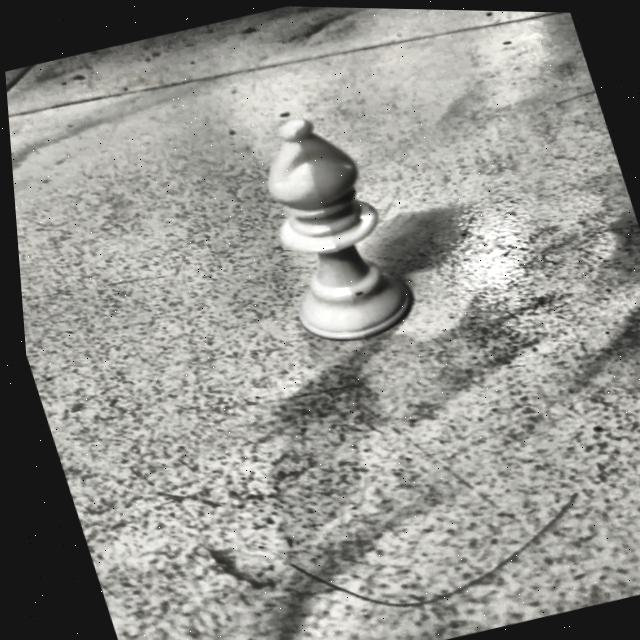WhiteBishop: (234, 103, 420, 351)
